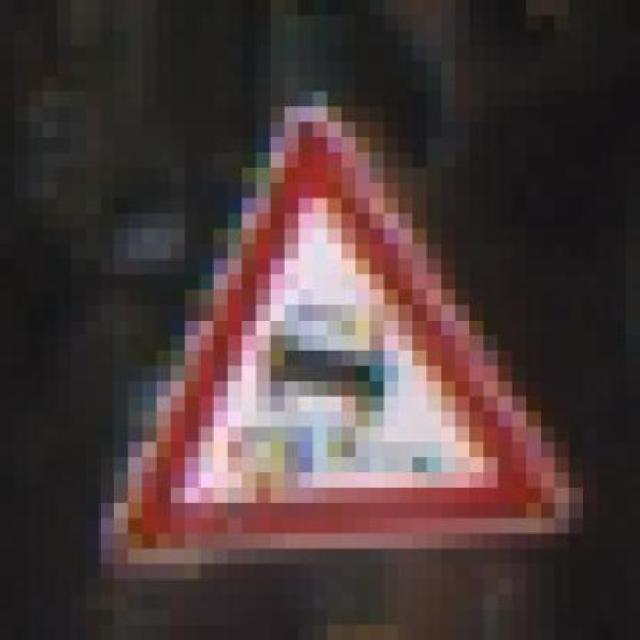Slippery Road Ahead: (85, 76, 598, 595)
